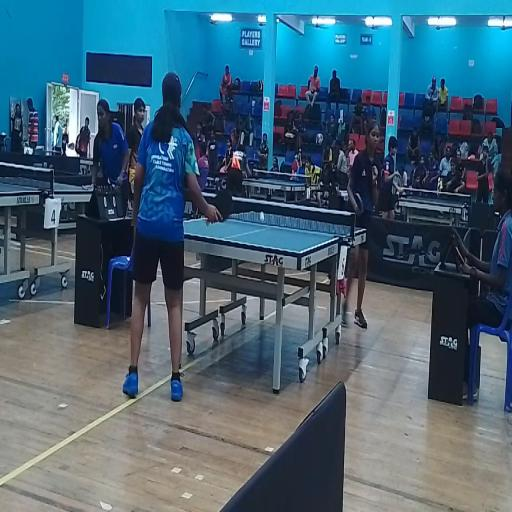ball: (260, 212, 264, 222)
